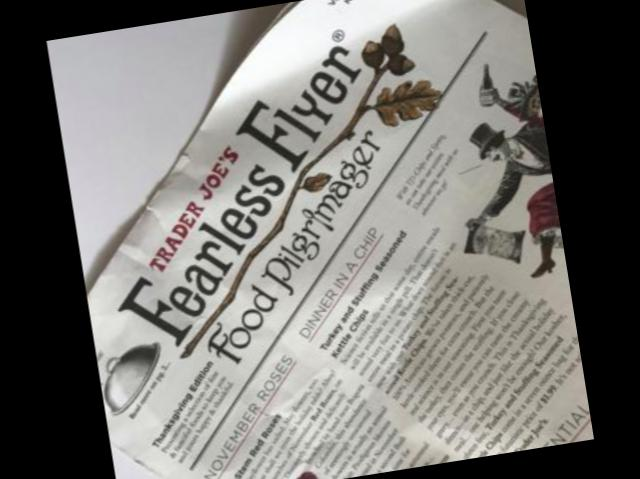cardboard paper: (86, 0, 594, 479)
